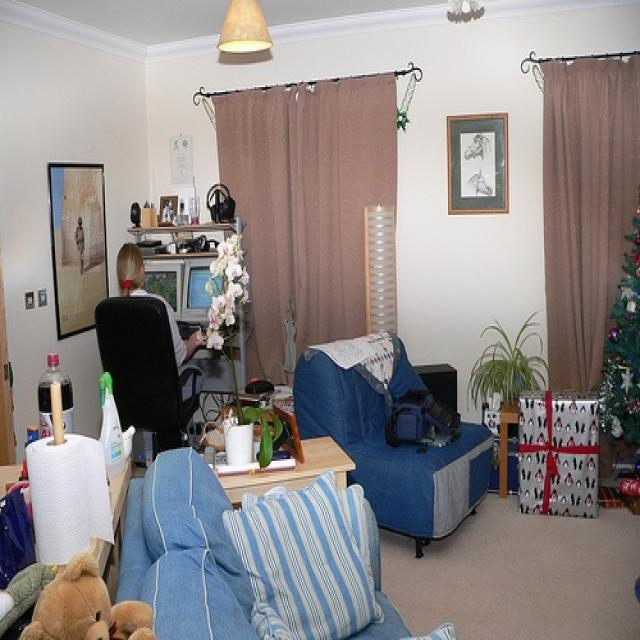bottle: (36, 354, 73, 441)
chair: (288, 333, 494, 556)
pottedplant: (209, 238, 279, 470), (469, 316, 546, 410)
sofa: (115, 446, 417, 638)
tvmonitor: (182, 258, 224, 324), (142, 259, 182, 321)
